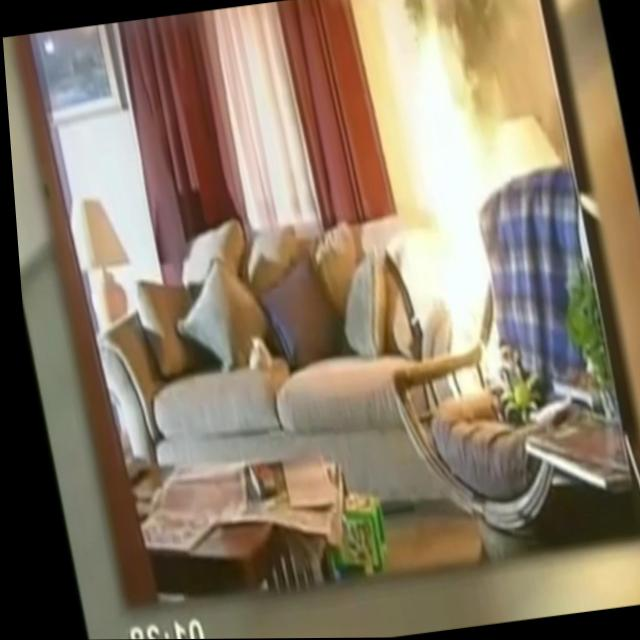fire: (371, 10, 528, 390)
